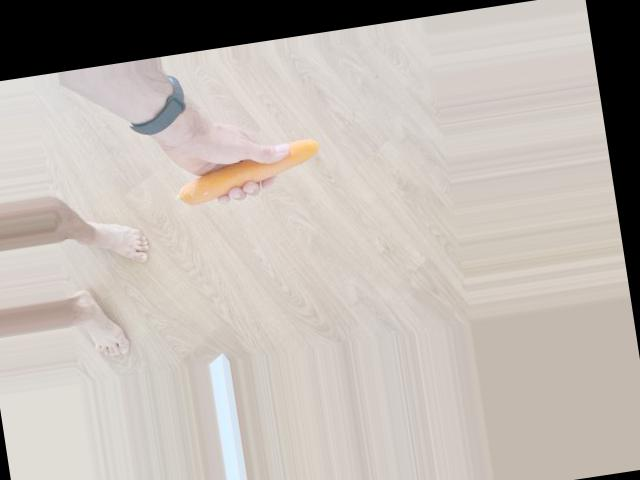carrot: (171, 137, 321, 209)
